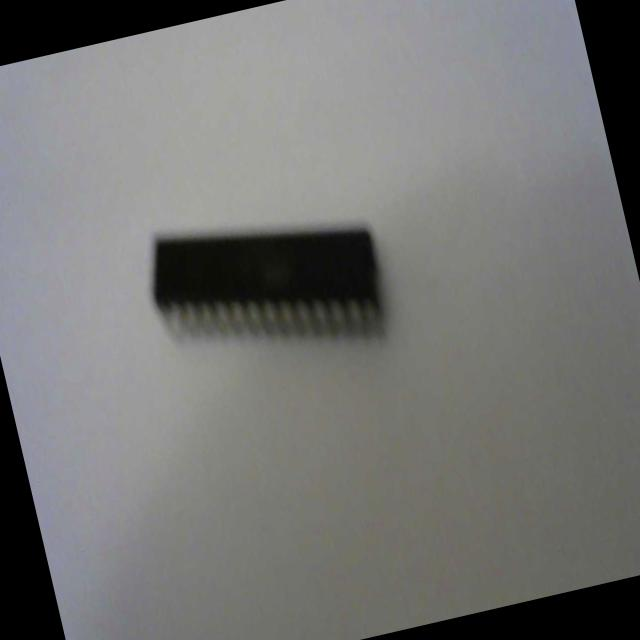atmega: (134, 180, 398, 390)
